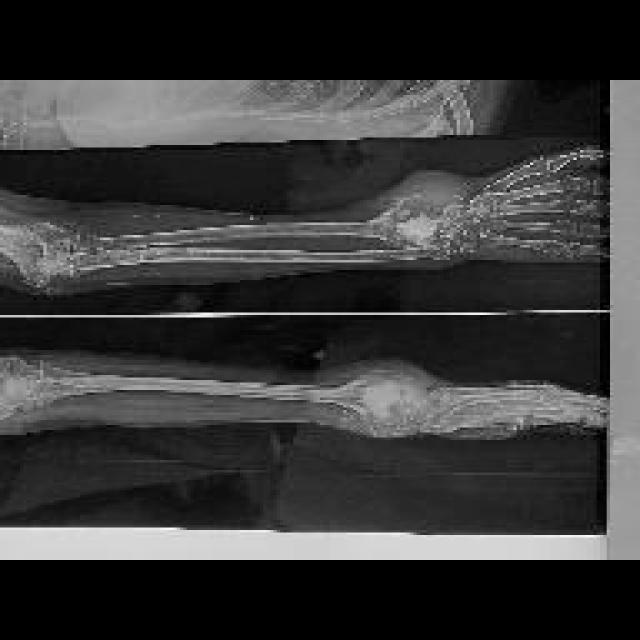bone-cancer: (333, 374, 430, 438), (375, 192, 465, 259)
